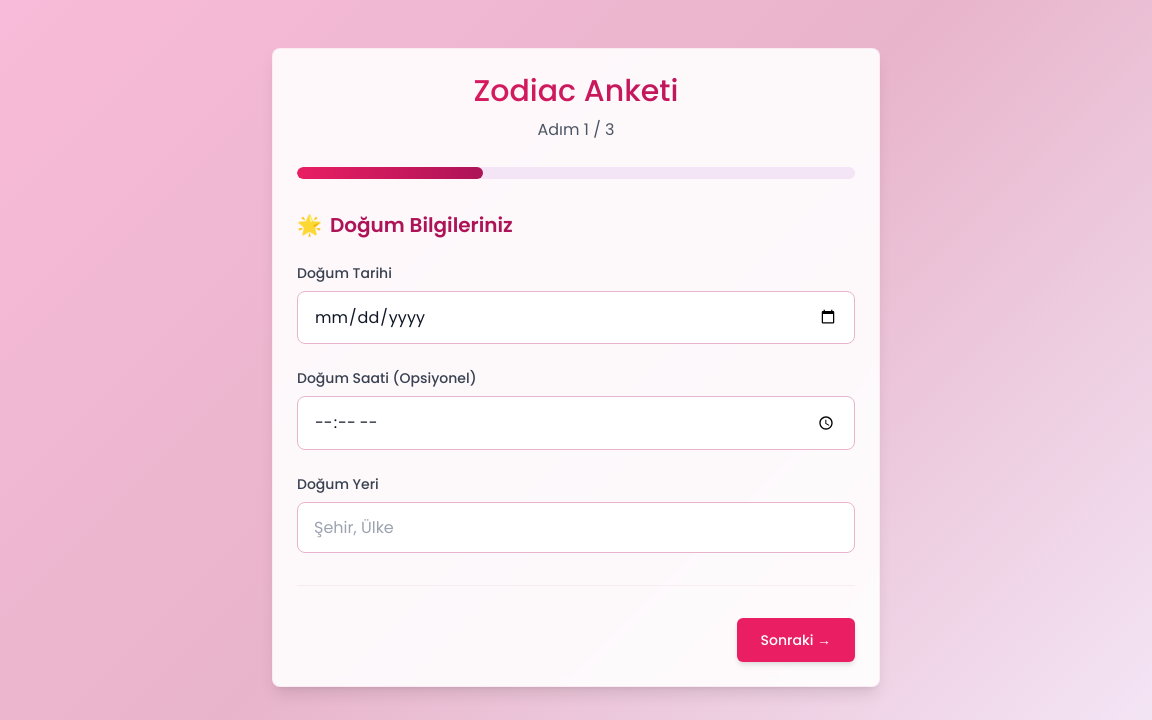
Test: SurveyPage Component › navigates to next step when clicking next button
The image size is (1152, 720).
Type "1990-01-01" into the date field labelled "Doğum Tarihi".
click(576, 317); type("1990-01-01")  # box x1=297 y1=291 x2=855 y2=344
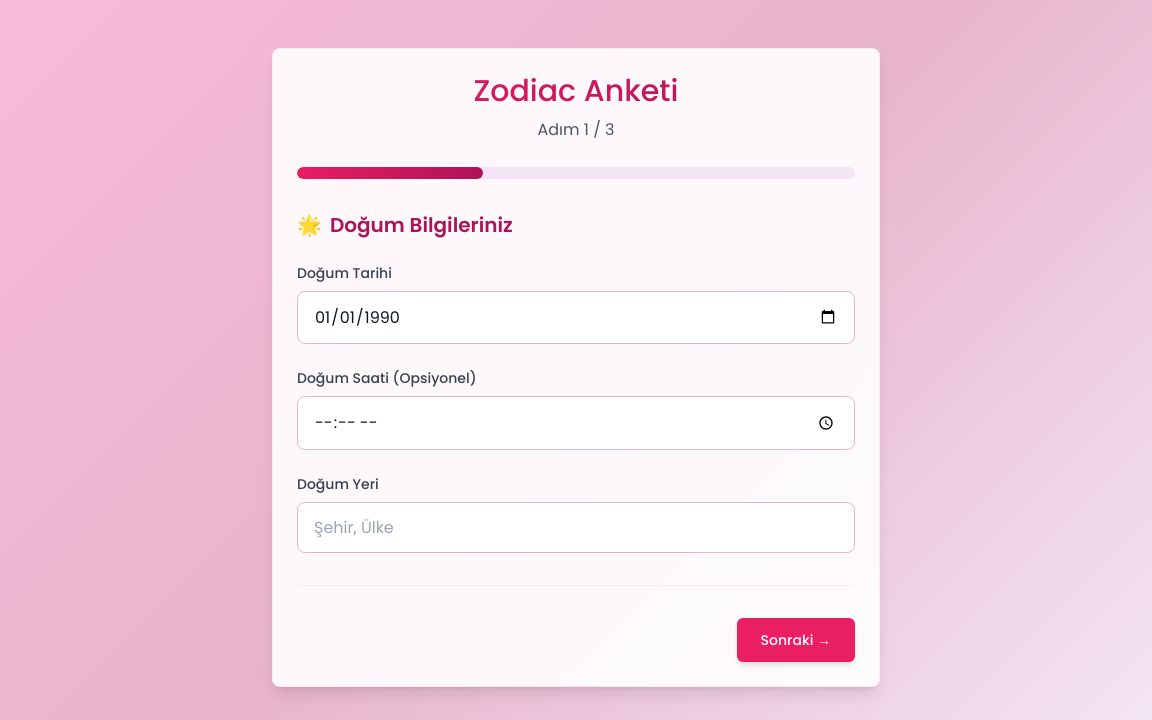
Type "Istanbul" into the field labelled "Doğum Yeri".
click(576, 528); type("Istanbul")  # box x1=297 y1=502 x2=855 y2=553
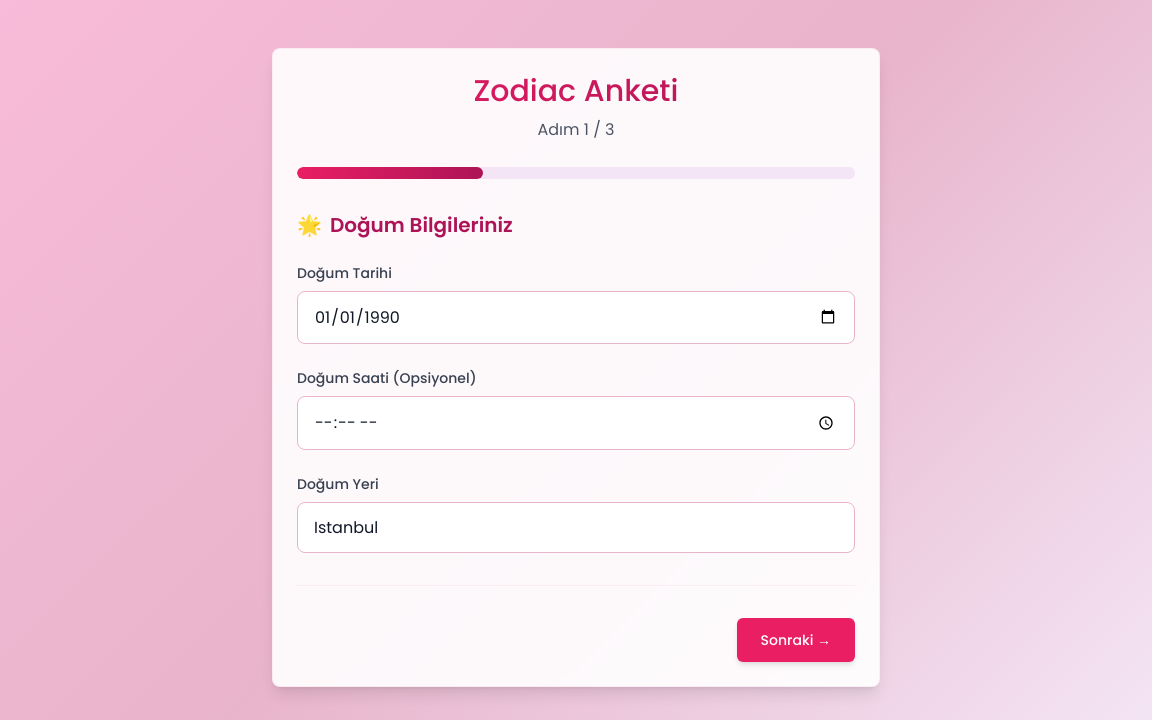
Click the button "Sonraki →".
click(796, 640)  # box x1=737 y1=618 x2=855 y2=662
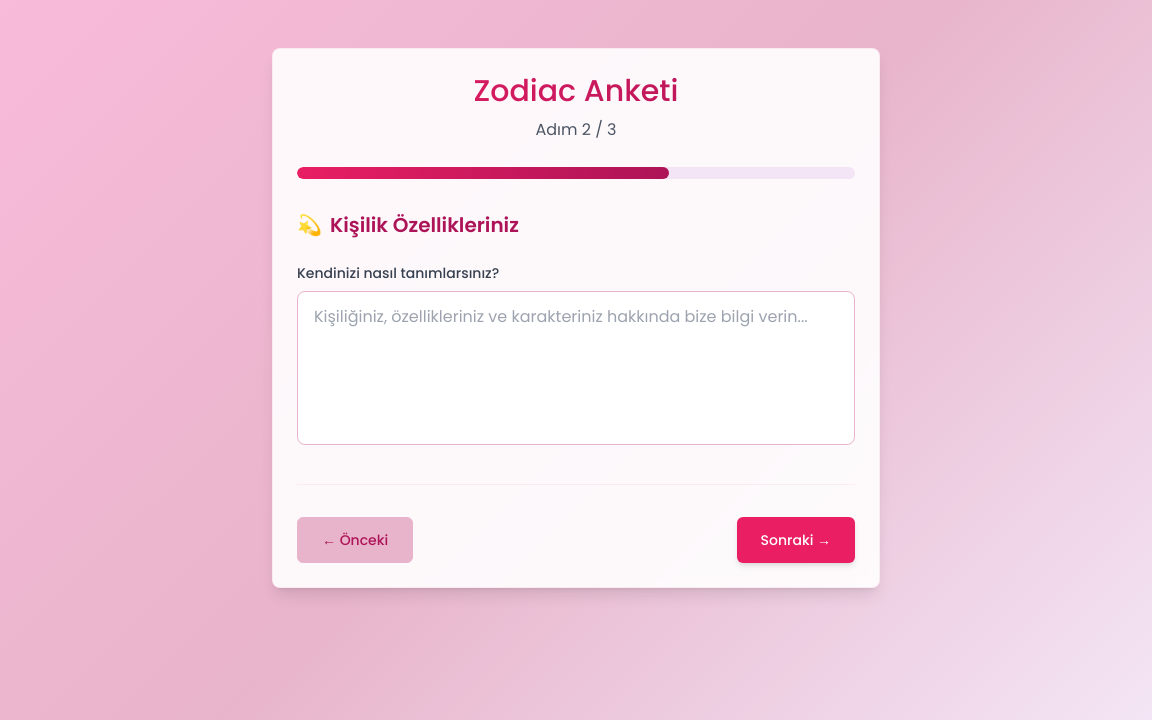
Result: the text "Adım 2 / 3" is shown at x1=535 y1=118 x2=616 y2=141
Result: the heading "💫 Kişilik Özellikleriniz" is shown at x1=297 y1=211 x2=519 y2=239
